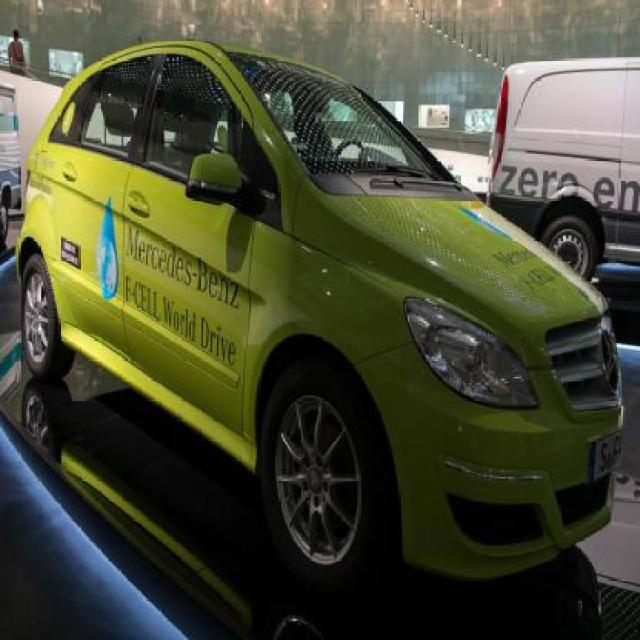License-Plates: (588, 430, 623, 484)
